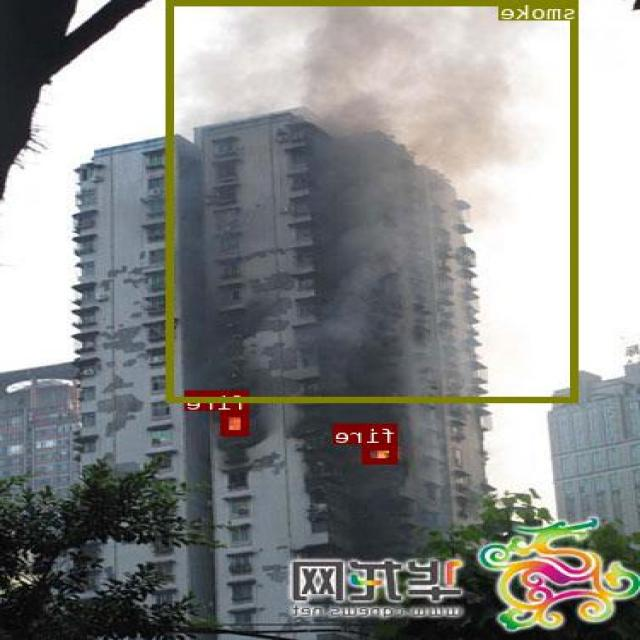fire: (223, 410, 251, 435), (364, 444, 399, 463)
smoke: (167, 0, 579, 401)
